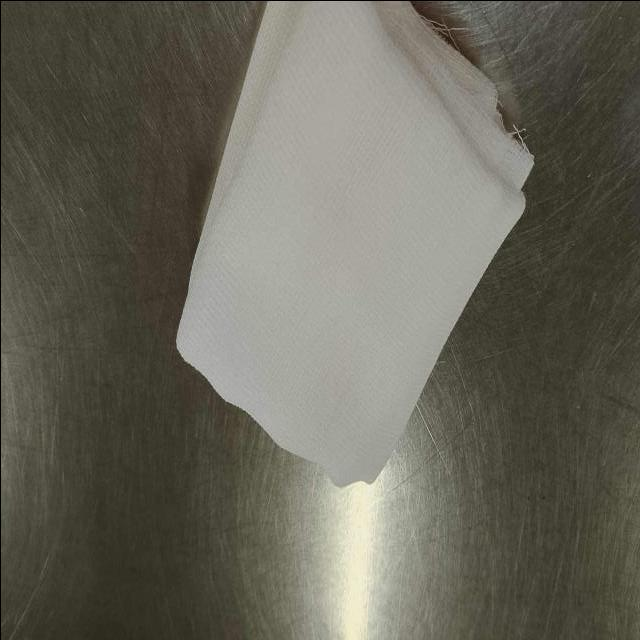Infectious: (174, 0, 536, 487)
Sharps: (505, 122, 533, 154)
